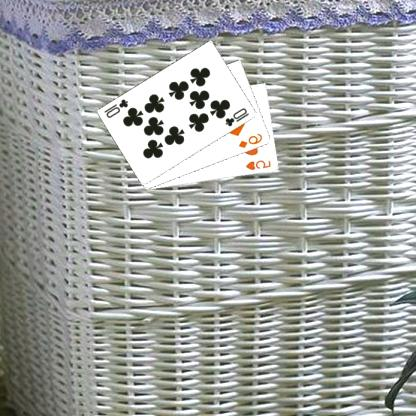10C: (103, 96, 131, 120), (224, 105, 252, 128)
5H: (245, 158, 274, 172)
6D: (238, 131, 266, 149)
